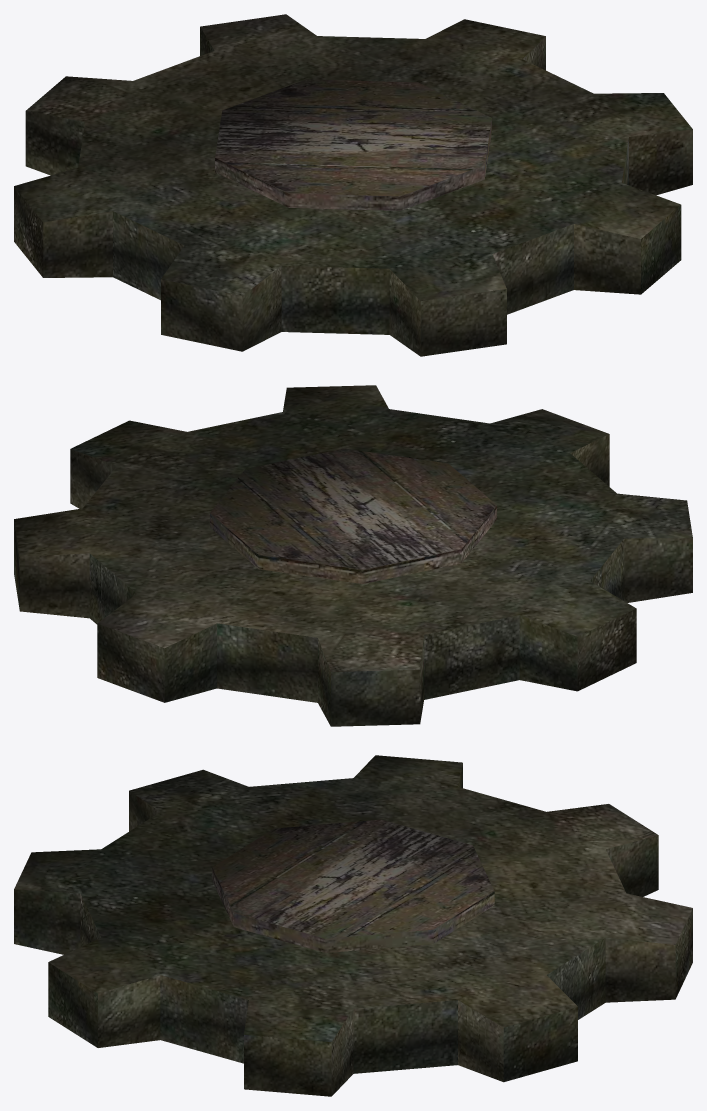
File: KM_VOB_GEARWHEEL_01.glb
3 renders of one model, top to bottom at view 1: azimuth 30°, elevation 25°; view 2: azimuth 150°, elevation 25°; view 3: azimuth 270°, elevation 25°, orthographic.
Parts seen in each view (by area): view 1: Mesh; view 2: Mesh; view 3: Mesh.
Part boxes in pixels (<box>): Mesh: <box>14,14,692,356</box>; Mesh: <box>14,385,692,726</box>; Mesh: <box>14,755,692,1096</box>.
Size of the model in its own units: 0.2759 by 0.042 by 0.2759.
Materials: 2 (2 with a texture image).
